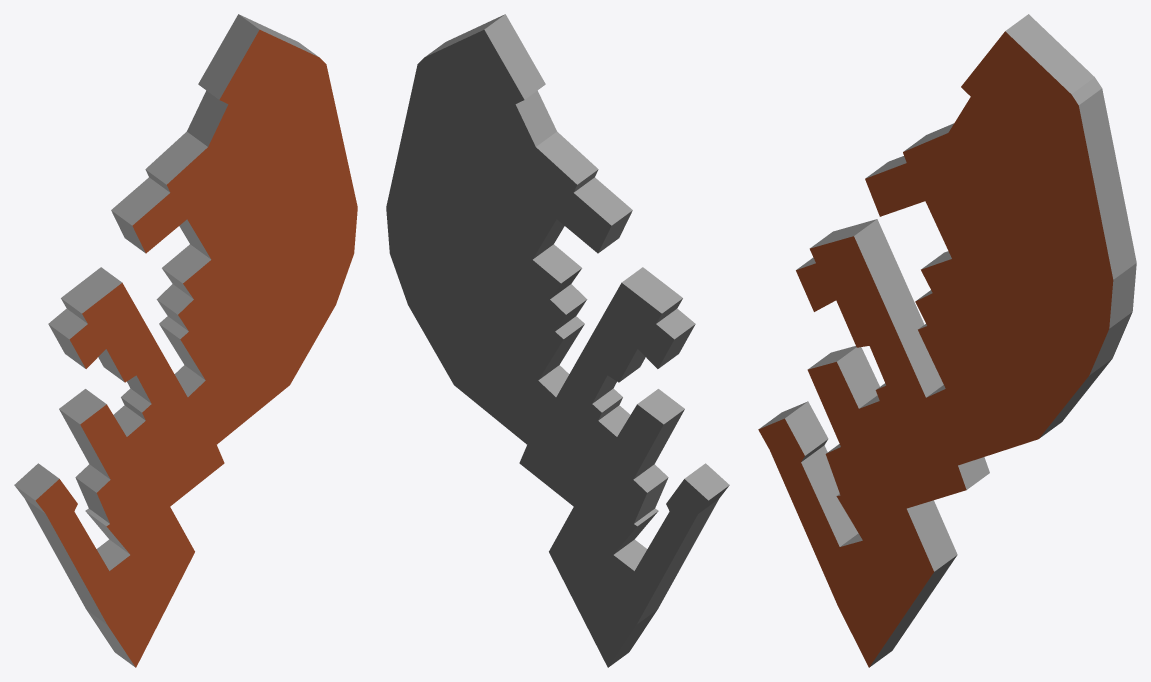
File: construction_6906_assumed_A_Casa_h6m.obj
3 views of the same model, side by side, from view 1: azimuth 30°, elevation 25°; view 2: azimuth 150°, elevation 25°; view 3: azimuth 330°, elevation 25° (orthographic). The views are drawn at different scales.
Parts seen in each view (by area): view 1: construction_6906_assumed_A_Casa; view 2: construction_6906_assumed_A_Casa; view 3: construction_6906_assumed_A_Casa.
Part boxes in pixels (left/top/right/bottom): construction_6906_assumed_A_Casa: left=14, top=14, right=357, bottom=667; construction_6906_assumed_A_Casa: left=386, top=14, right=729, bottom=667; construction_6906_assumed_A_Casa: left=758, top=14, right=1136, bottom=667.
Size of the model in its own units: 52.43 by 94.53 by 6.
